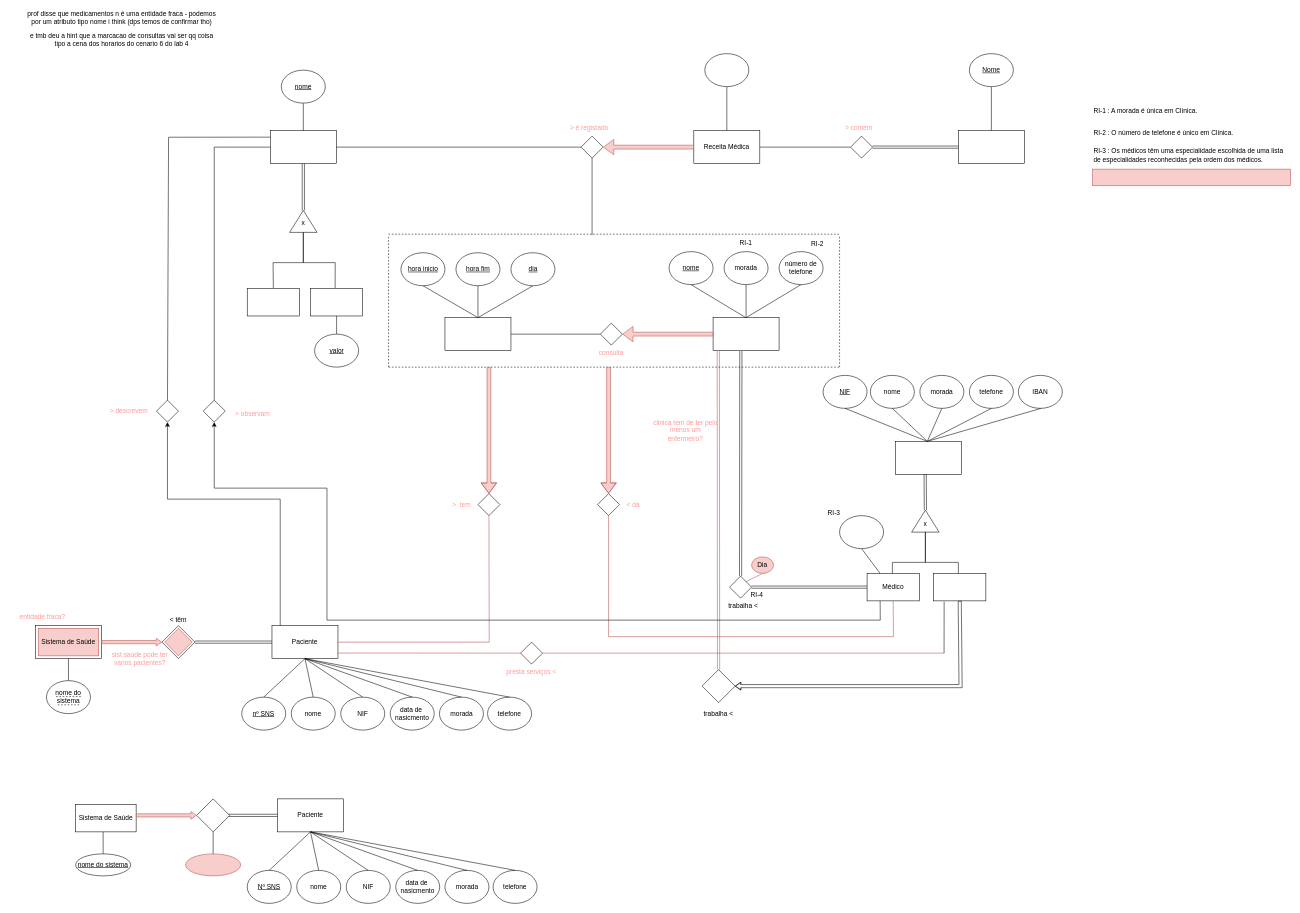
Image size: 1300x913. Some labels were removed from this diagram. The box of each missing label's shape, as (x1, y1, x2, y2) in pixels:
Clinica: (713, 317, 779, 351)
Código SNS: (704, 53, 749, 87)
Enfermeiro: (933, 573, 986, 601)
especialidade: (839, 515, 884, 549)
Marcação: (444, 317, 511, 351)
Medicamentos: (958, 130, 1024, 164)
nº SNS do paciente: (185, 853, 241, 876)
Profissional de Saúde: (895, 441, 962, 474)
Qualitativos: (247, 288, 299, 316)
Quantitativos: (310, 288, 363, 316)
RI-4 : Médicos só podem estar alocados a uma clínica a cada dia da semana.: (1092, 169, 1291, 186)
Sintomas: (270, 130, 336, 164)
